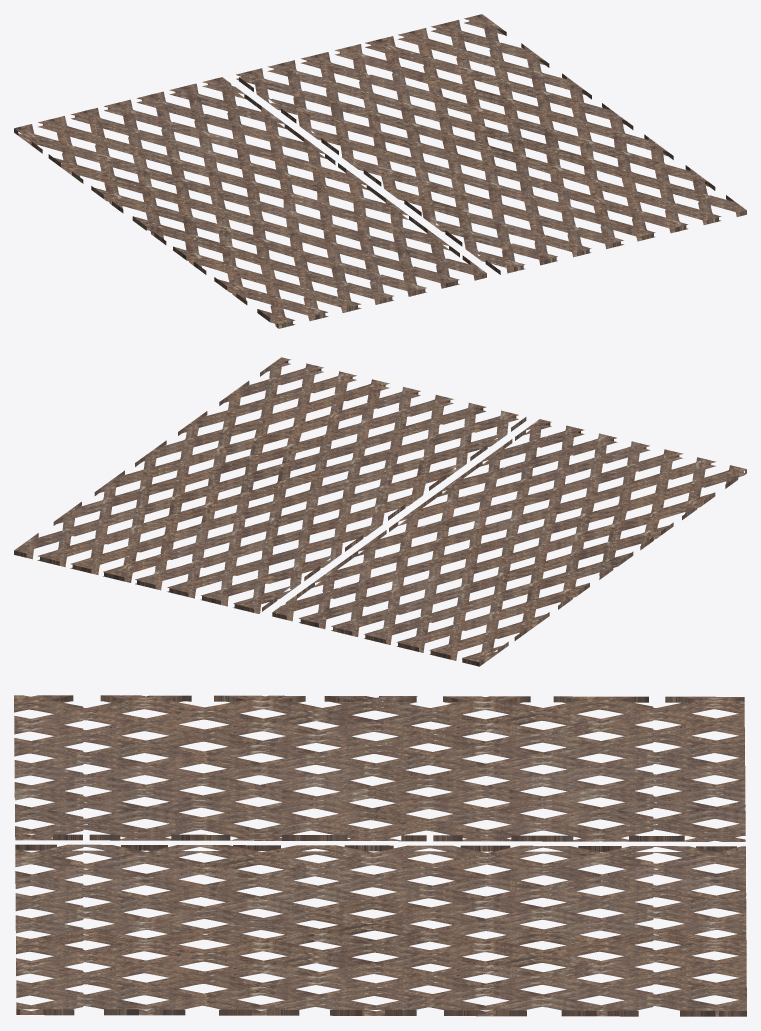
File: SM_NeoLD_10_WireMesh_Col.fbx
3 views of the same model, one above another, from view 1: azimuth 30°, elevation 25°; view 2: azimuth 150°, elevation 25°; view 3: azimuth 270°, elevation 25° (orthographic). The views are drawn at different scales.
Parts seen in each view (by area): view 1: SM_NeoLD_10_WireMesh_Col; view 2: SM_NeoLD_10_WireMesh_Col; view 3: SM_NeoLD_10_WireMesh_Col.
Boxes of the visible parts, x1=… form: SM_NeoLD_10_WireMesh_Col: x1=14, y1=14, x2=746, y2=328; SM_NeoLD_10_WireMesh_Col: x1=14, y1=357, x2=746, y2=666; SM_NeoLD_10_WireMesh_Col: x1=14, y1=695, x2=746, y2=1016.
Size of the model in its own units: 405 by 4.26 by 399.
